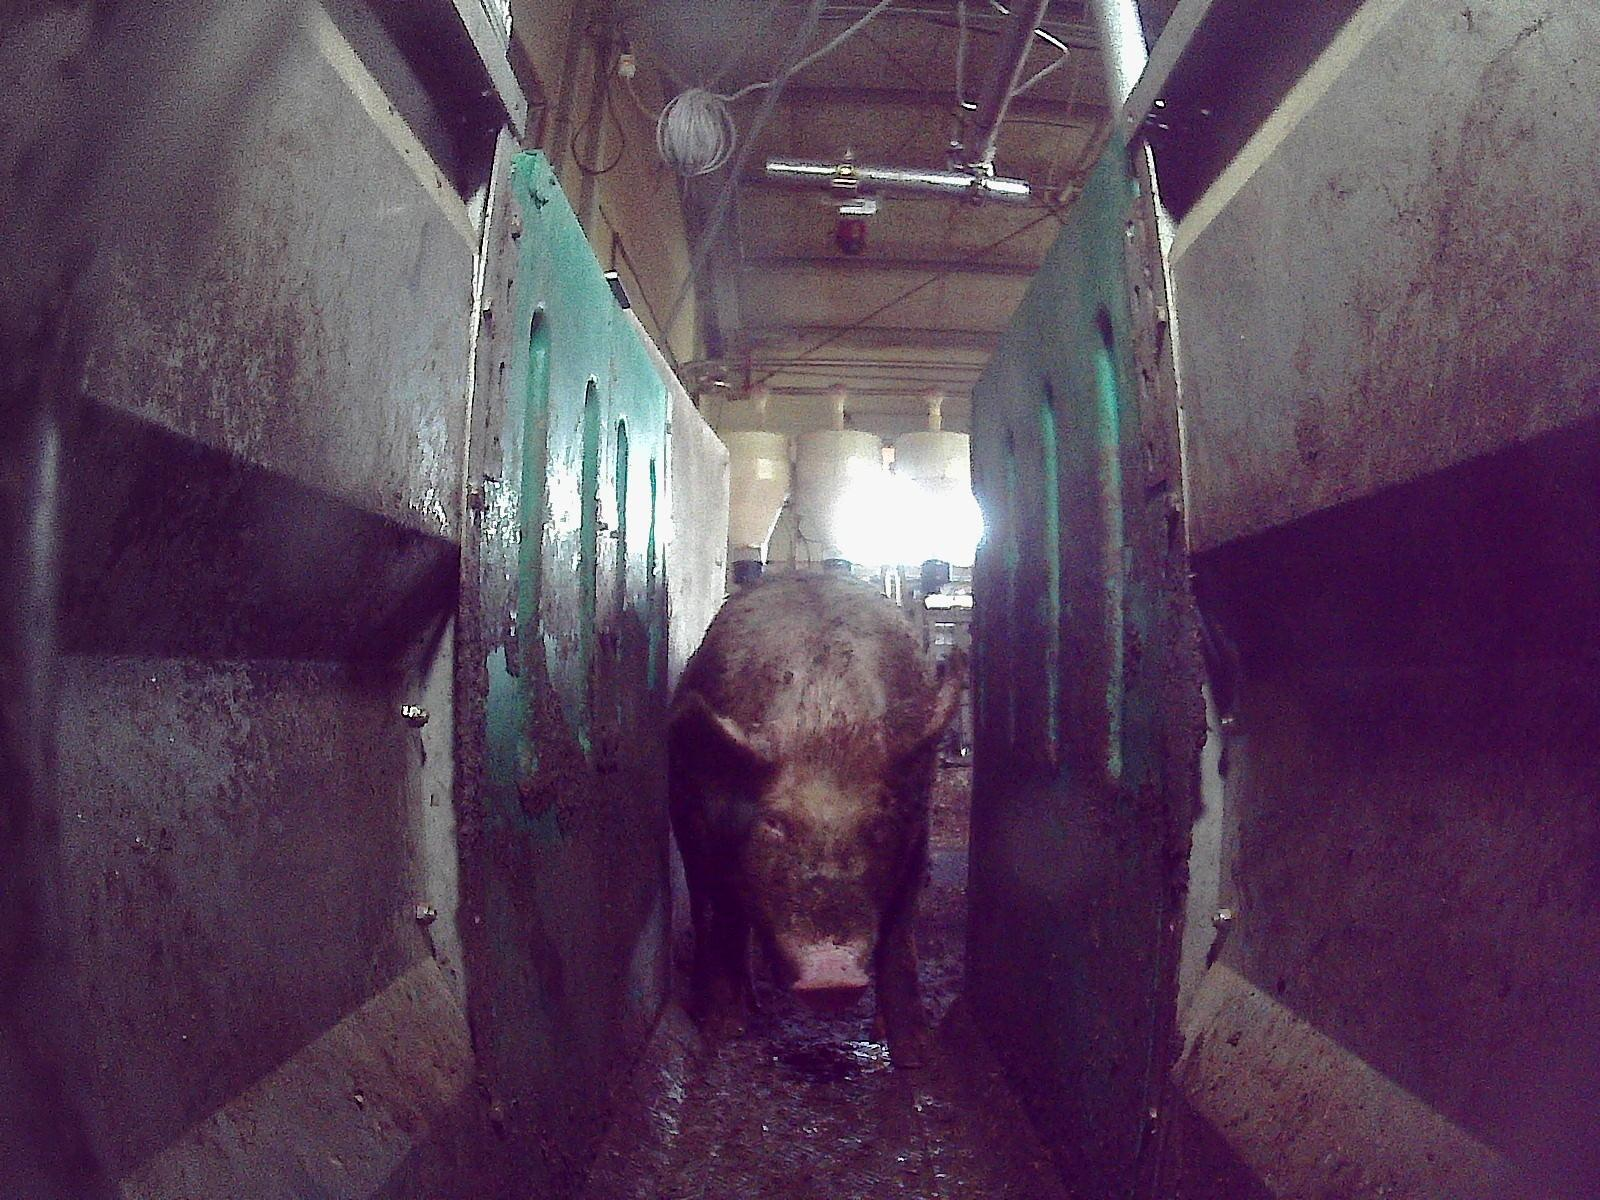Face: (738, 740, 896, 1007)
